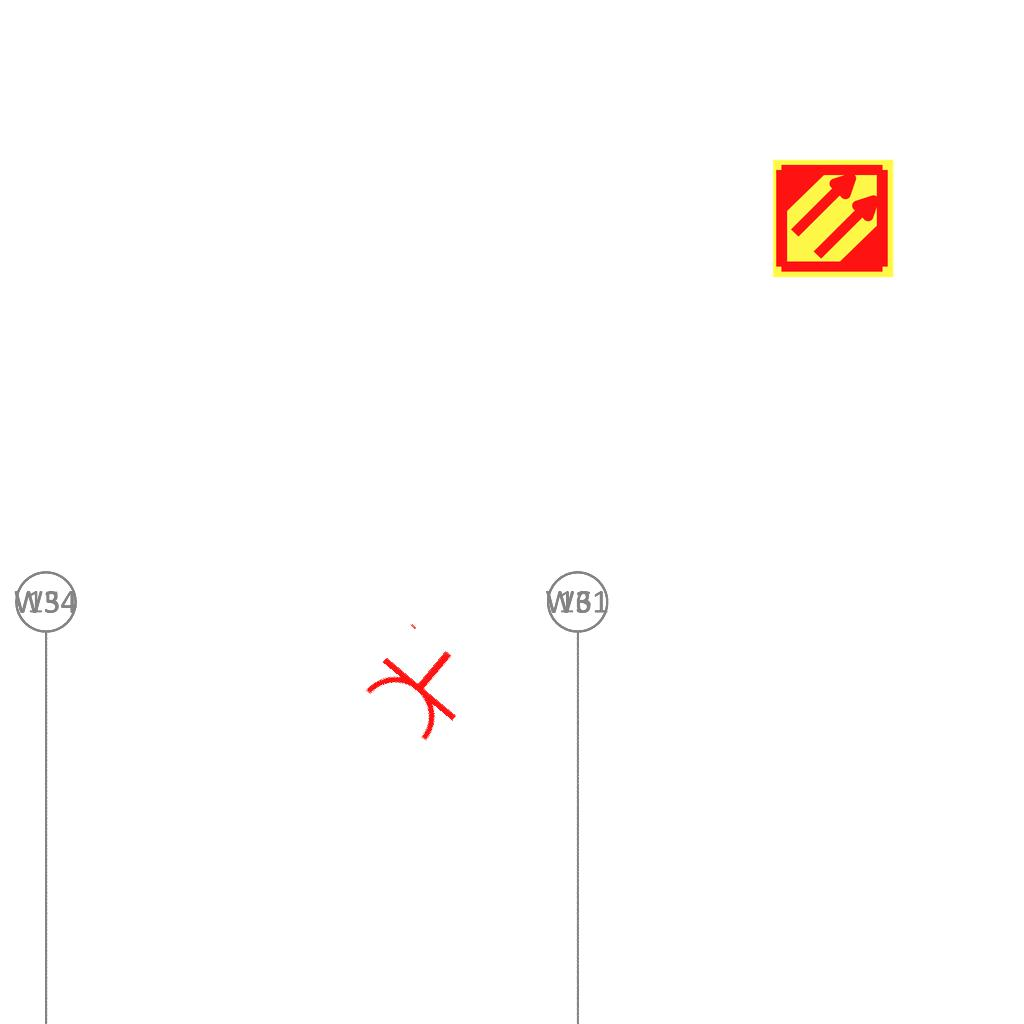ASR_Ansaugrauchmelder: (771, 156, 896, 281)
Schukosteckdose_einfach: (354, 618, 487, 750)
